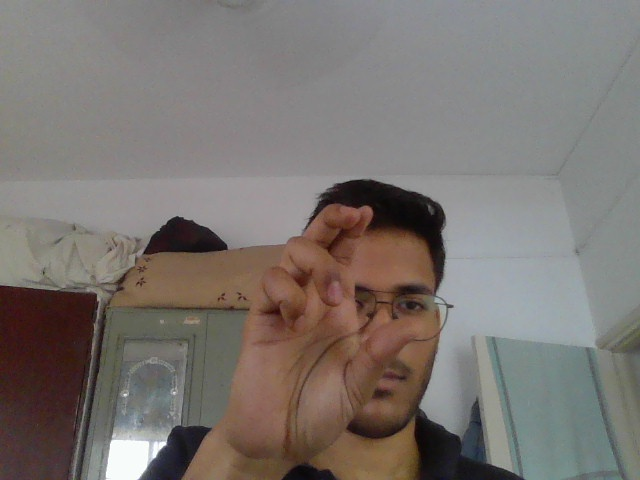no: (210, 196, 446, 467)
